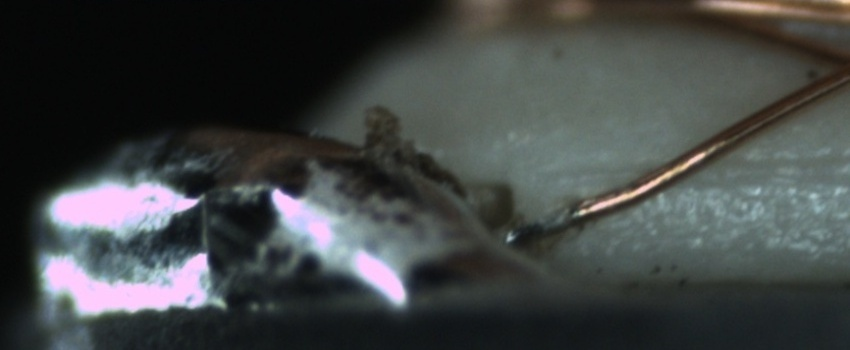CL: (805, 34, 850, 94)
DL: (567, 135, 849, 199)
TS: (503, 201, 587, 245)
TTCW: (495, 196, 599, 246)
